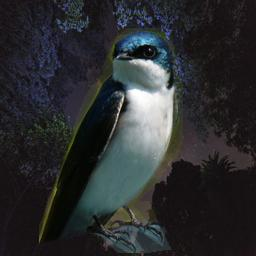Swallow: (39, 28, 183, 253)
